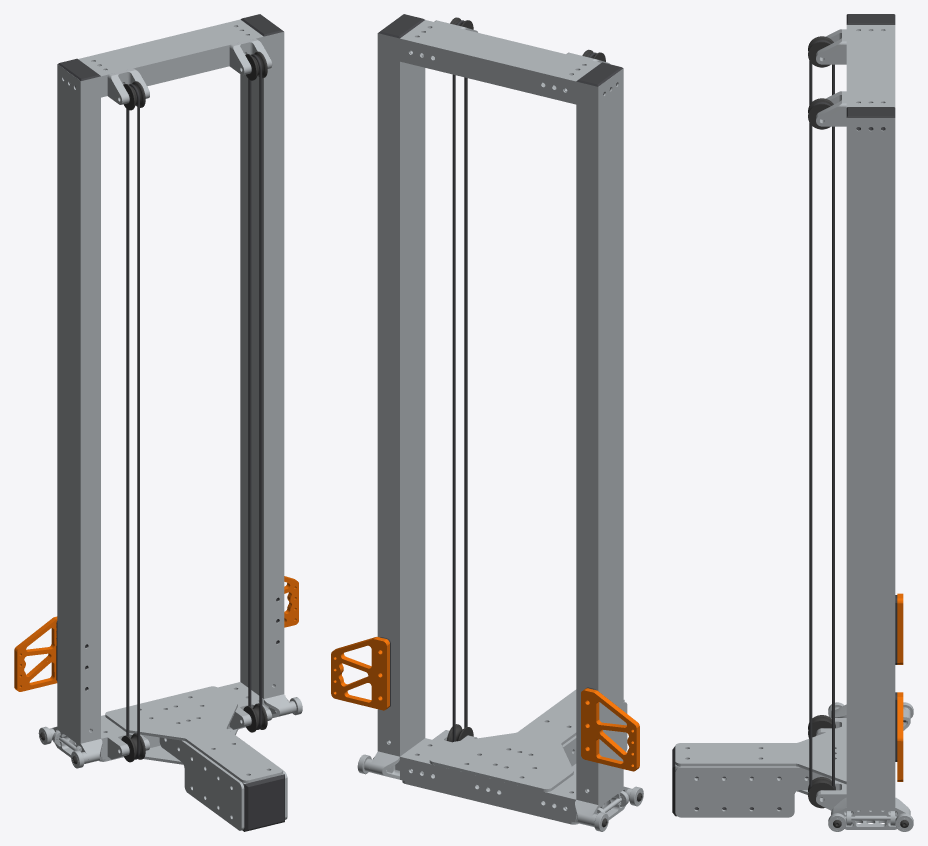
3 renders of one model, left to right at view 1: azimuth 30°, elevation 25°; view 2: azimuth 150°, elevation 25°; view 3: azimuth 270°, elevation 25°, orthographic. The views are drawn at different scales.
Visible parts, largest first — view 1: Tube 2"x1"x8".001; view 2: Tube 2"x1"x8".001; view 3: Tube 2"x1"x8".001.
Boxes of the visible parts, x1=… form: Tube 2"x1"x8".001: x1=14, y1=14, x2=302, y2=831; Tube 2"x1"x8".001: x1=331, y1=14, x2=643, y2=831; Tube 2"x1"x8".001: x1=672, y1=14, x2=913, y2=831.
Bounding box in the file's own units: 0.352 × 0.8493 × 0.2508.
